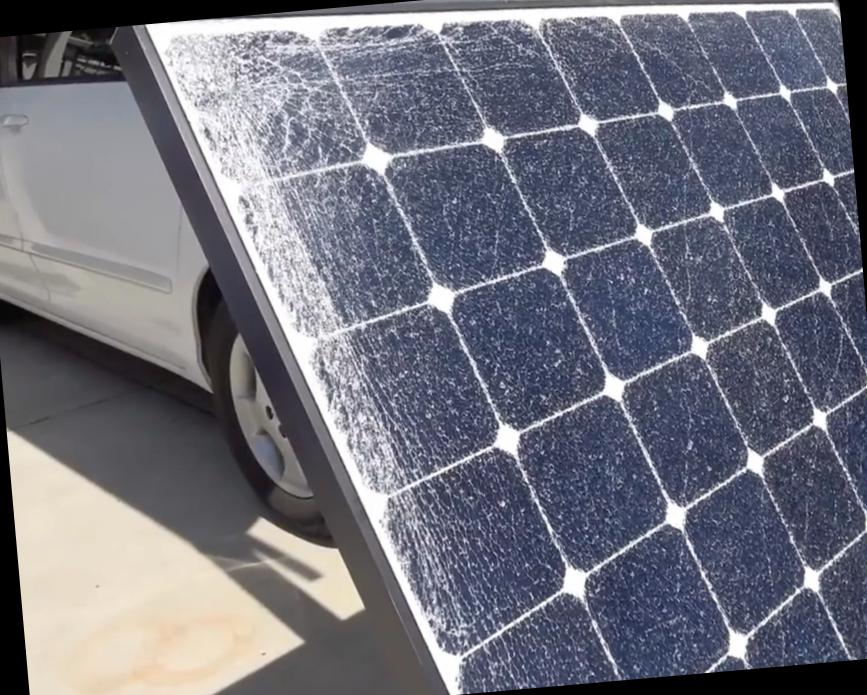Crack: (584, 48, 866, 462), (148, 6, 392, 190), (382, 477, 572, 638), (217, 184, 373, 342), (294, 337, 423, 485)
